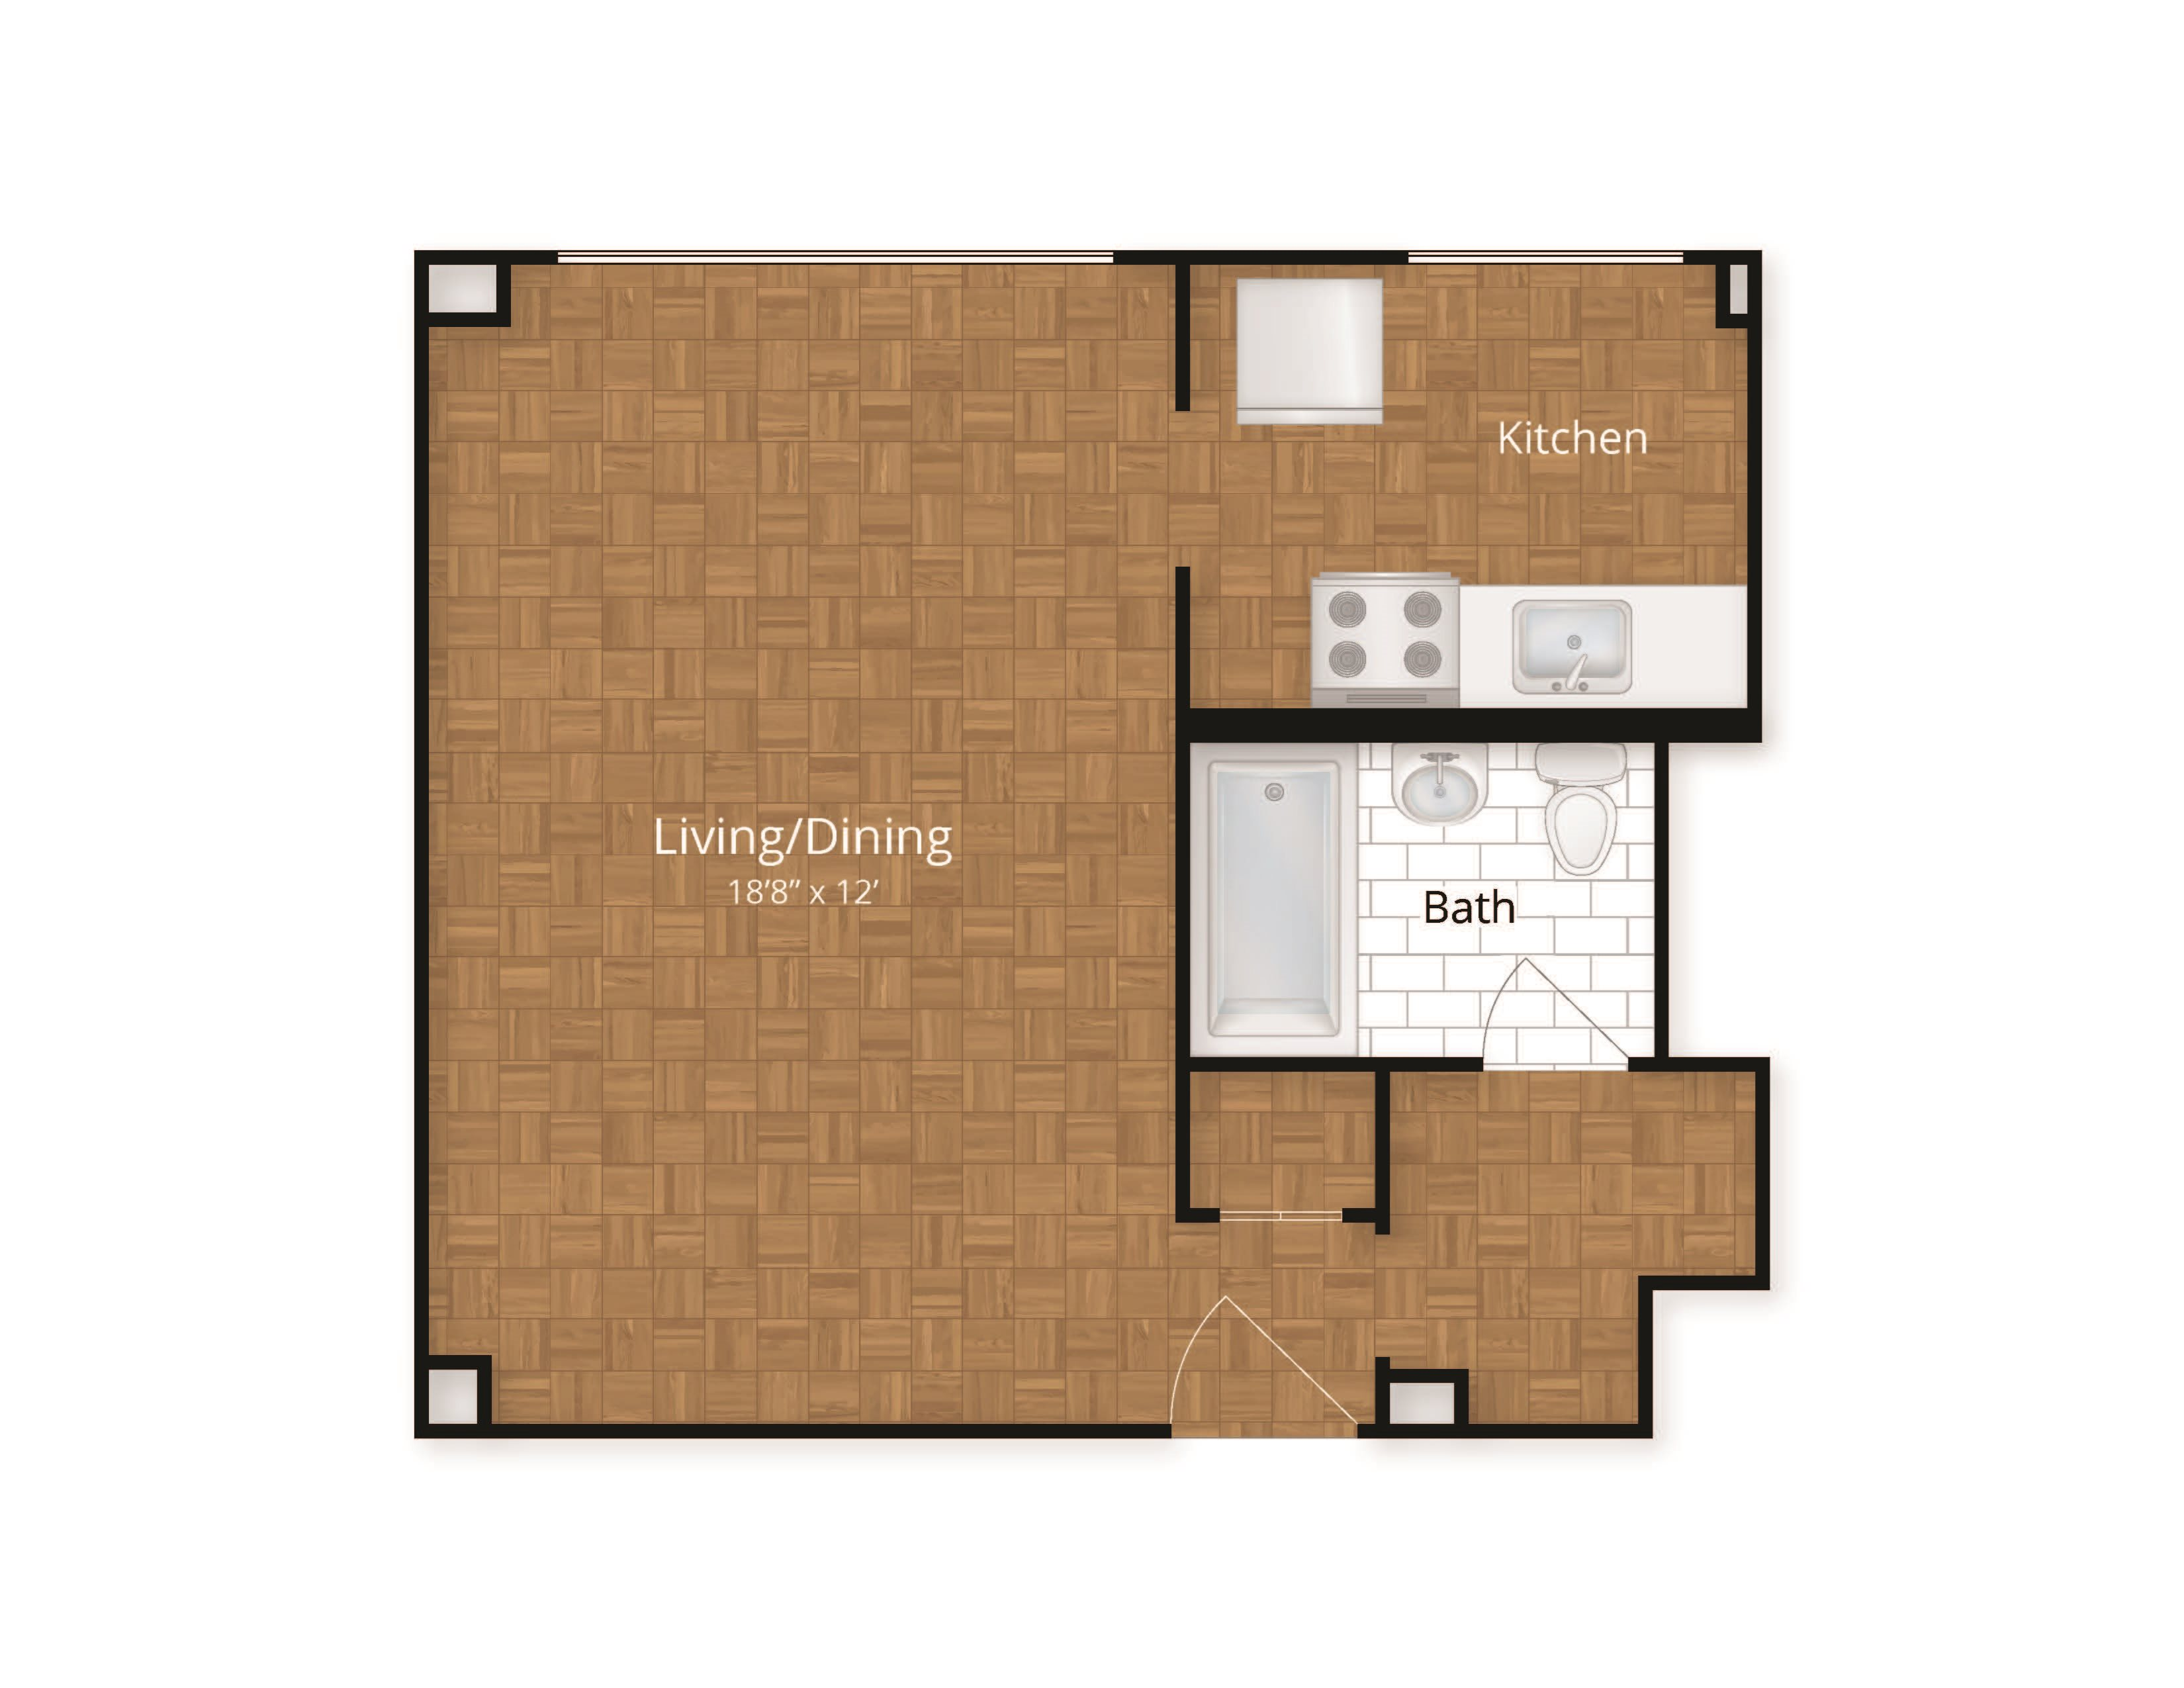door: (1165, 1286, 1349, 1418), (1466, 950, 1642, 1057)
